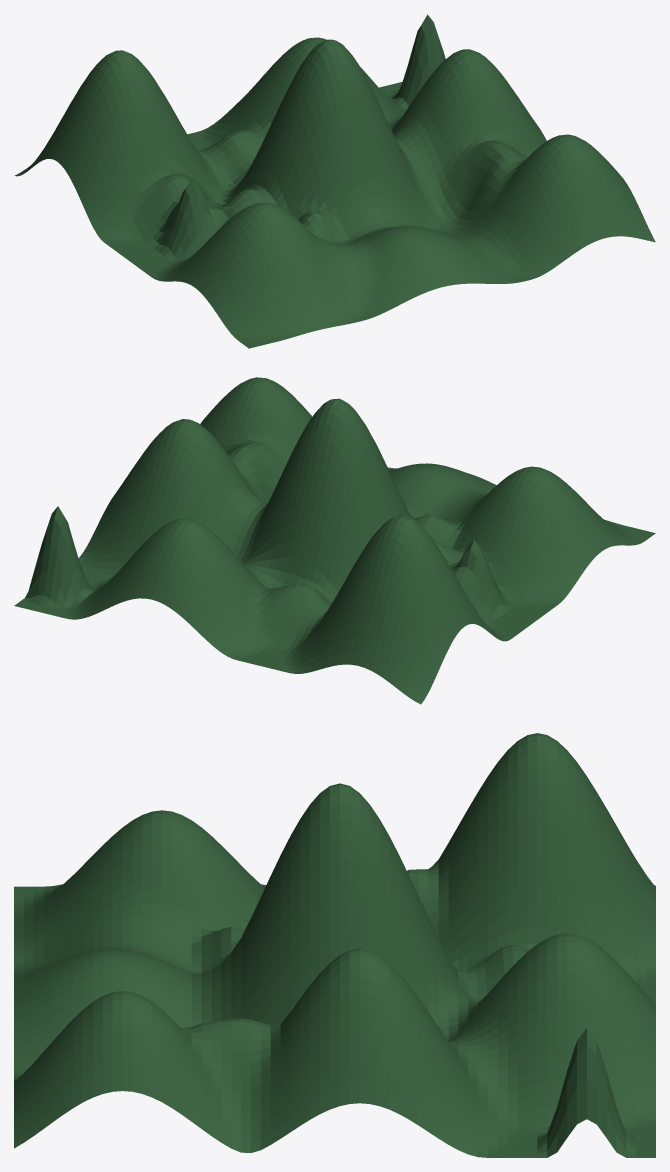
Rendered from mountains.glb.
The picture shows the model from 3 angles, top to bottom: view 1: azimuth 30°, elevation 25°; view 2: azimuth 150°, elevation 25°; view 3: azimuth 270°, elevation 25°; orthographic projection. The views are drawn at different scales.
Parts seen in each view (by area): view 1: Plane; view 2: Plane; view 3: Plane.
Part boxes in pixels (x1,y1,x2,y2): Plane: (14,14,655,348); Plane: (14,377,655,704); Plane: (14,733,655,1157).
Bounding box in the file's own units: 4 × 1.62 × 4.
